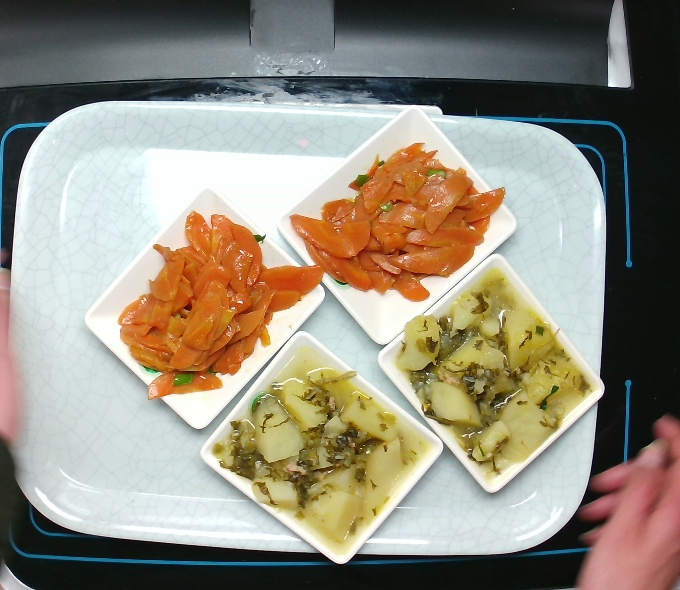wcq-HuLuoBo: (117, 211, 327, 411), (287, 141, 516, 311)
wcq-XueCaiTuDou: (233, 335, 413, 541), (402, 270, 582, 476)
